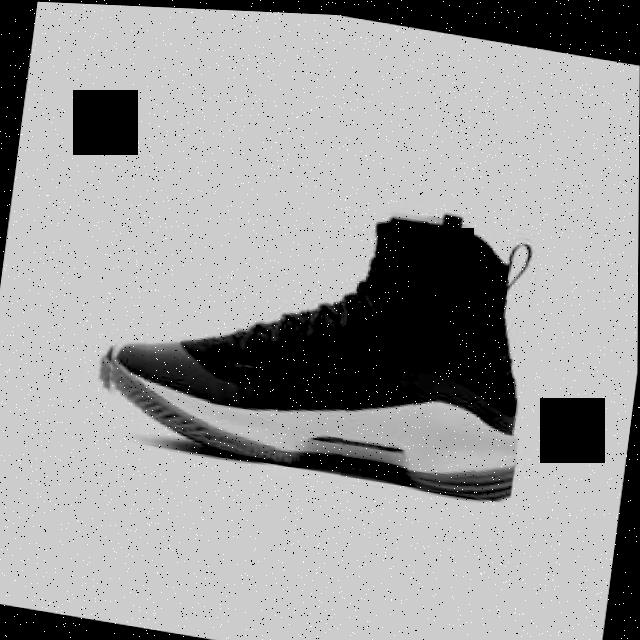shoe: (91, 159, 545, 500)
